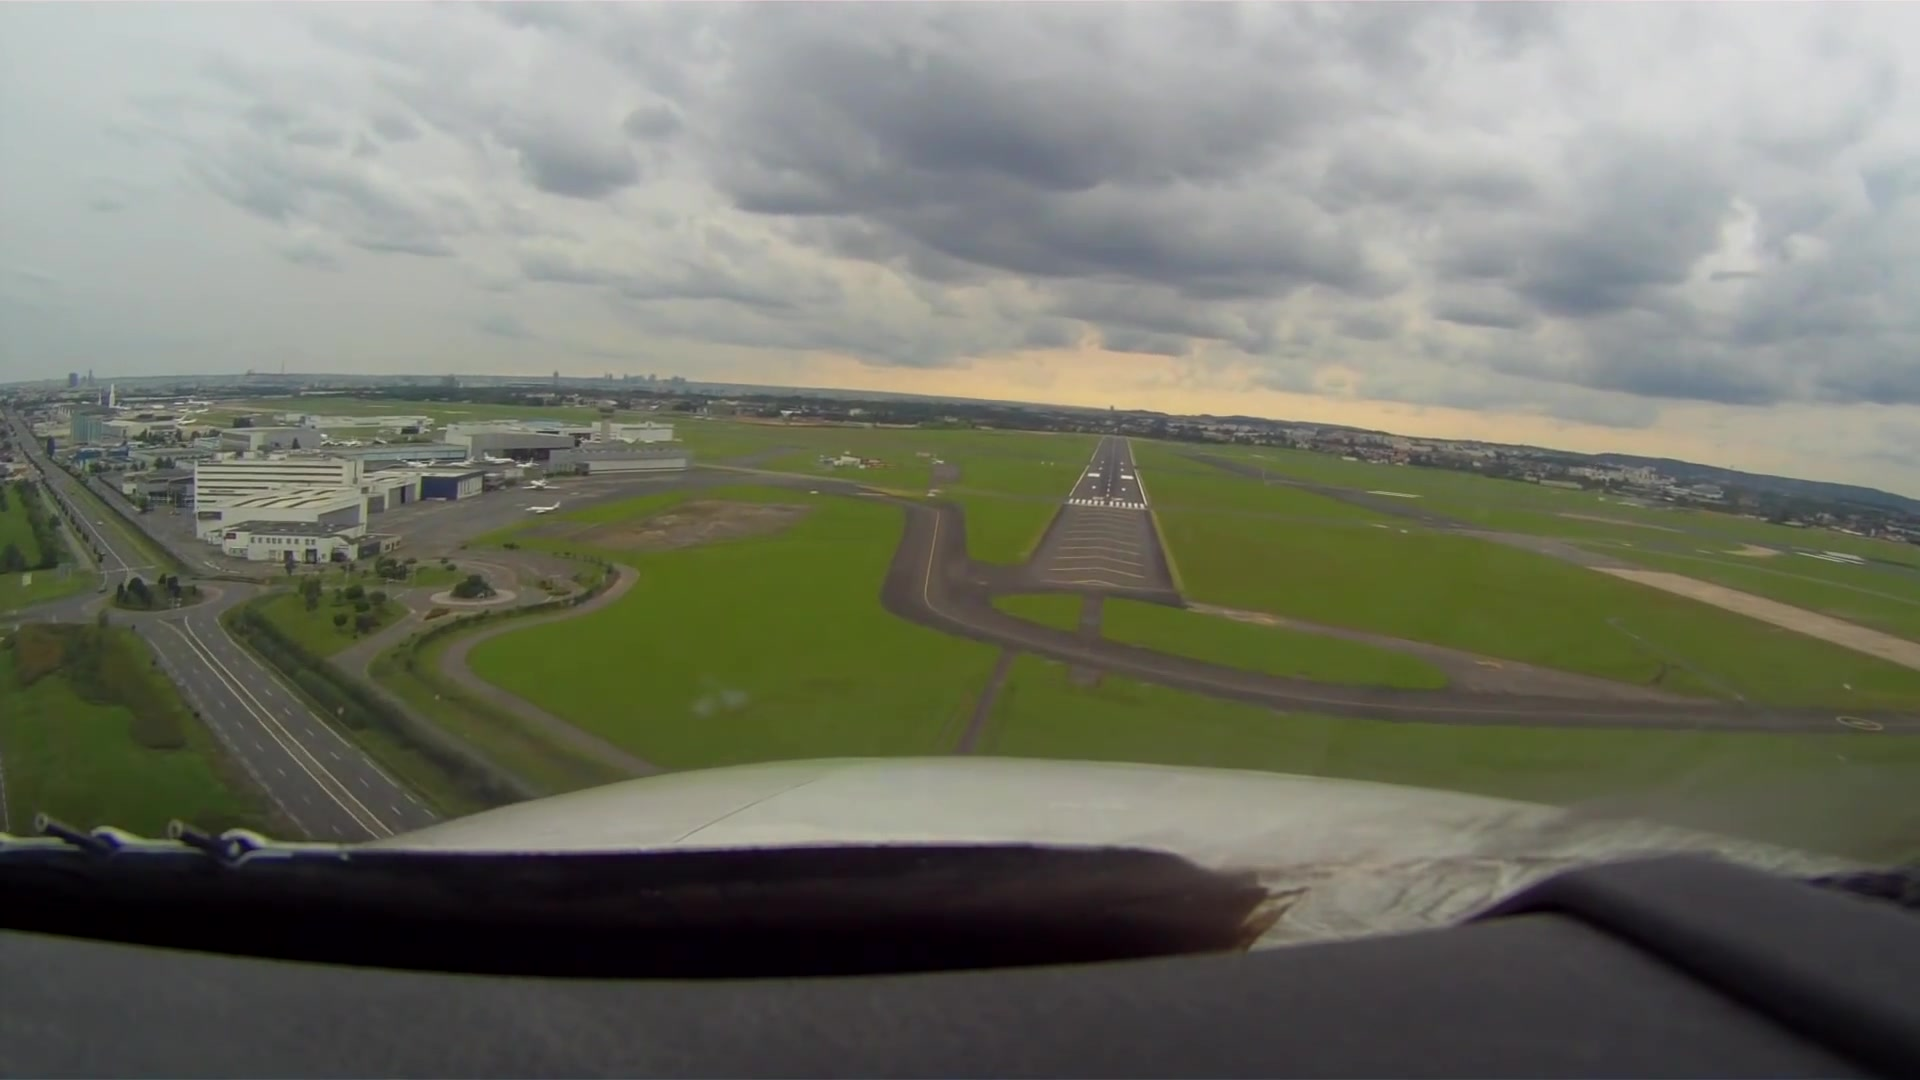entrance: (1068, 497, 1146, 510)
runway: (1065, 434, 1149, 516)
